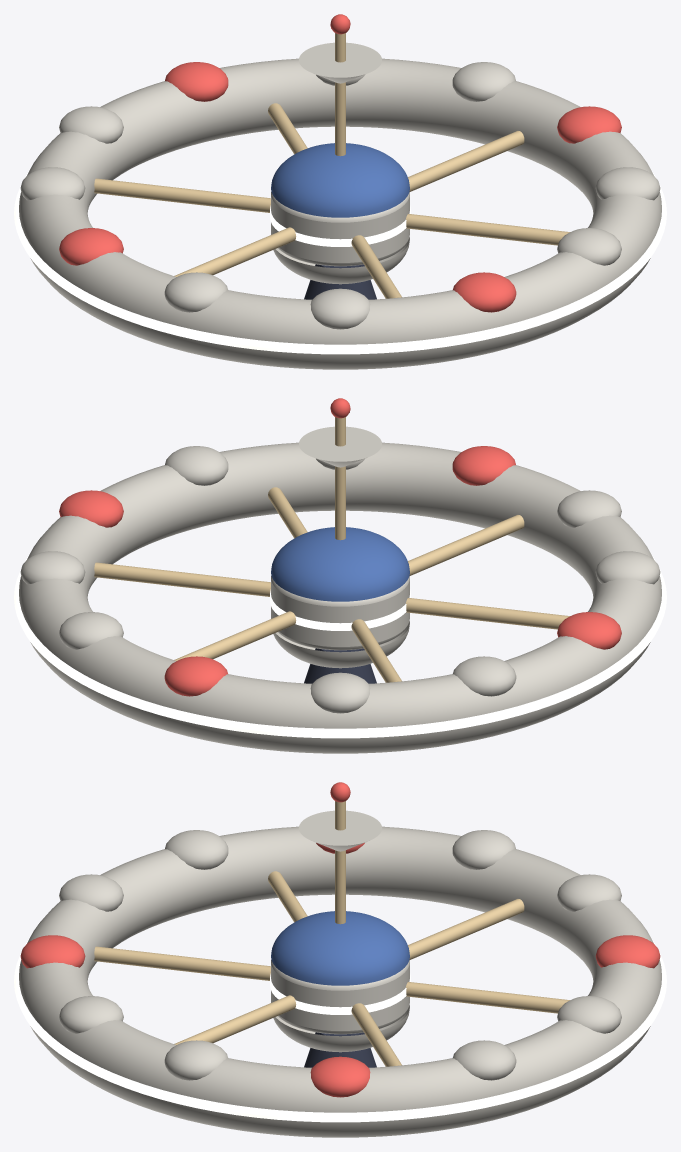
Rendered from hub.glb.
3 renders of one model, top to bottom at view 1: azimuth 30°, elevation 25°; view 2: azimuth 150°, elevation 25°; view 3: azimuth 270°, elevation 25°, orthographic.
Visible parts, largest first — view 1: Torus, Sphere.012, Torus.001, Cylinder.006, Cylinder.002, Cylinder.005, Cone, Sphere.008, Sphere.007, Sphere.009, Cylinder, Sphere.001 (+14 smaller); view 2: Torus, Sphere.012, Torus.001, Cylinder.006, Cylinder, Cylinder.003, Cone, Sphere.004, Sphere.003, Sphere.005, Cylinder.004, Sphere.009 (+14 smaller); view 3: Torus, Sphere.012, Torus.001, Cylinder.006, Cylinder.004, Cylinder.001, Cone, Sphere, Sphere.001, Sphere.011, Cylinder.002, Sphere.005 (+14 smaller).
Part boxes in pixels (x1=…): Torus: x1=19, y1=58, x2=661, y2=369; Sphere.012: x1=271, y1=143, x2=409, y2=217; Torus.001: x1=14, y1=172, x2=666, y2=354; Cylinder.006: x1=271, y1=192, x2=409, y2=266; Cylinder.002: x1=94, y1=178, x2=270, y2=212; Cylinder.005: x1=406, y1=214, x2=570, y2=245; Cone: x1=299, y1=42, x2=381, y2=83; Sphere.008: x1=310, y1=288, x2=370, y2=329; Sphere.007: x1=164, y1=272, x2=227, y2=312; Sphere.009: x1=453, y1=272, x2=516, y2=312; Cylinder: x1=408, y1=131, x2=524, y2=191; Sphere.001: x1=452, y1=62, x2=515, y2=101; Torus: x1=19, y1=442, x2=661, y2=753; Sphere.012: x1=271, y1=527, x2=409, y2=601; Torus.001: x1=14, y1=556, x2=666, y2=738; Cylinder.006: x1=271, y1=576, x2=409, y2=650; Cylinder: x1=94, y1=562, x2=270, y2=596; Cylinder.003: x1=406, y1=598, x2=570, y2=629; Cone: x1=299, y1=426, x2=381, y2=467; Sphere.004: x1=310, y1=672, x2=370, y2=713; Sphere.003: x1=164, y1=656, x2=227, y2=696; Sphere.005: x1=453, y1=656, x2=516, y2=696; Cylinder.004: x1=408, y1=515, x2=524, y2=575; Sphere.009: x1=452, y1=446, x2=515, y2=485; Torus: x1=19, y1=826, x2=661, y2=1137; Sphere.012: x1=271, y1=911, x2=409, y2=985; Torus.001: x1=14, y1=940, x2=666, y2=1122; Cylinder.006: x1=271, y1=960, x2=409, y2=1034; Cylinder.004: x1=94, y1=946, x2=270, y2=980; Cylinder.001: x1=406, y1=982, x2=569, y2=1013; Cone: x1=298, y1=810, x2=382, y2=851; Sphere: x1=310, y1=1056, x2=370, y2=1097; Sphere.001: x1=453, y1=1040, x2=516, y2=1080; Sphere.011: x1=164, y1=1040, x2=227, y2=1080; Cylinder.002: x1=408, y1=899, x2=524, y2=959; Sphere.005: x1=452, y1=830, x2=515, y2=869.
Size of the model in its own units: 1.41 by 0.687 by 1.41.
